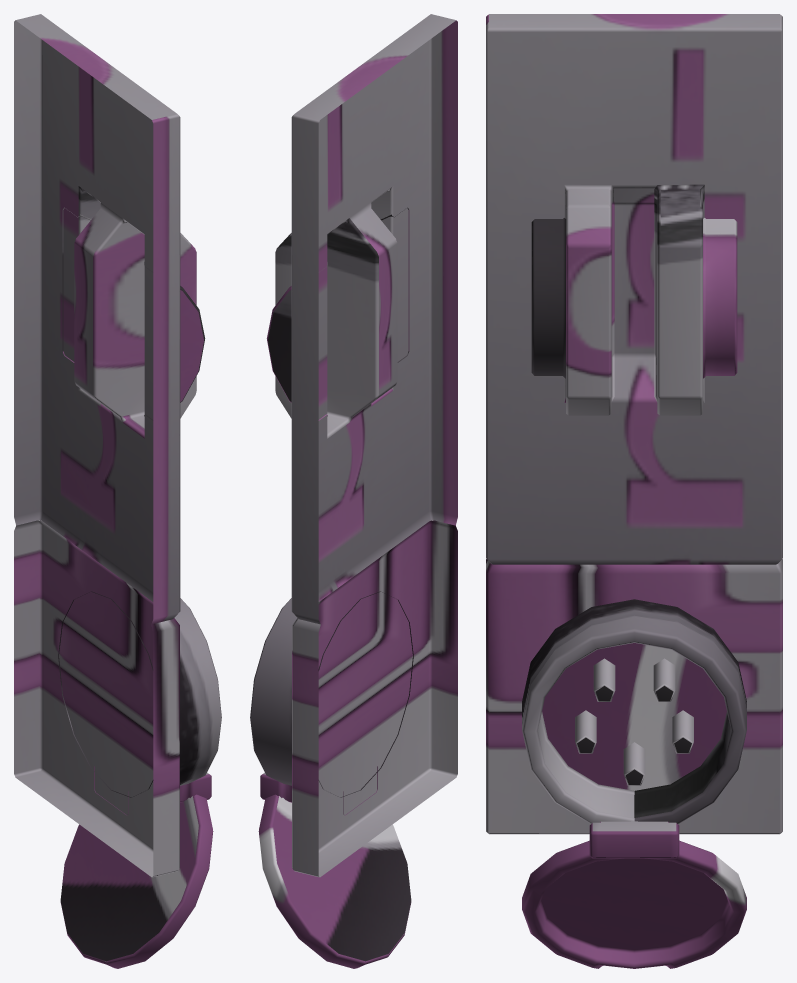
Rendered from SM_EDSWallSwitch1NoSwitch.fbx.
3 renders of one model, left to right at view 1: azimuth 30°, elevation 25°; view 2: azimuth 150°, elevation 25°; view 3: azimuth 270°, elevation 25°, orthographic. The views are drawn at different scales.
Parts seen in each view (by area): view 1: Wall Socket with Switch 1; view 2: Wall Socket with Switch 1; view 3: Wall Socket with Switch 1, Wall Socket pins.
Boxes of the visible parts, left/top/right/bottom form: Wall Socket with Switch 1: left=14, top=14, right=221, bottom=968; Wall Socket with Switch 1: left=250, top=14, right=457, bottom=968; Wall Socket with Switch 1: left=486, top=14, right=782, bottom=968; Wall Socket pins: left=575, top=658, right=693, bottom=785.
Size of the model in its own units: 4.41 by 9.78 by 34.42.
